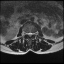CCS_normal: (29, 30, 31, 39)
LFS_normal: (32, 30, 35, 36)
LLS_normal: (31, 30, 33, 37)
RFS_normal: (25, 29, 27, 36)
RLS_normal: (27, 31, 29, 37)
